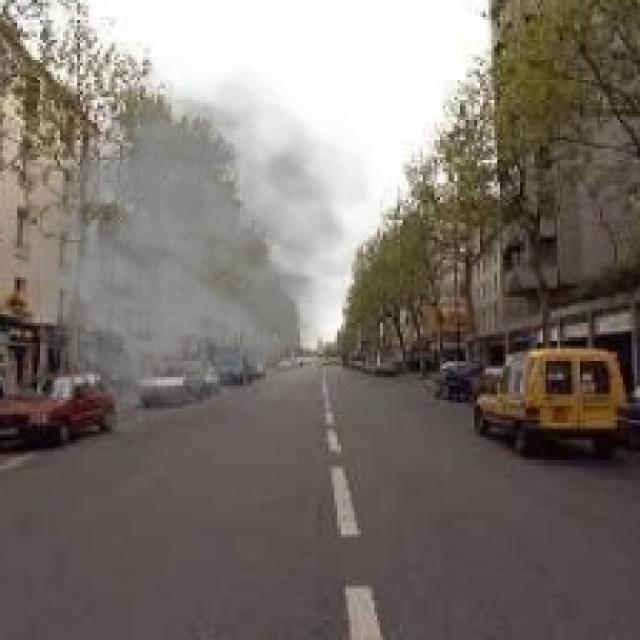smoke: (11, 57, 392, 432)
